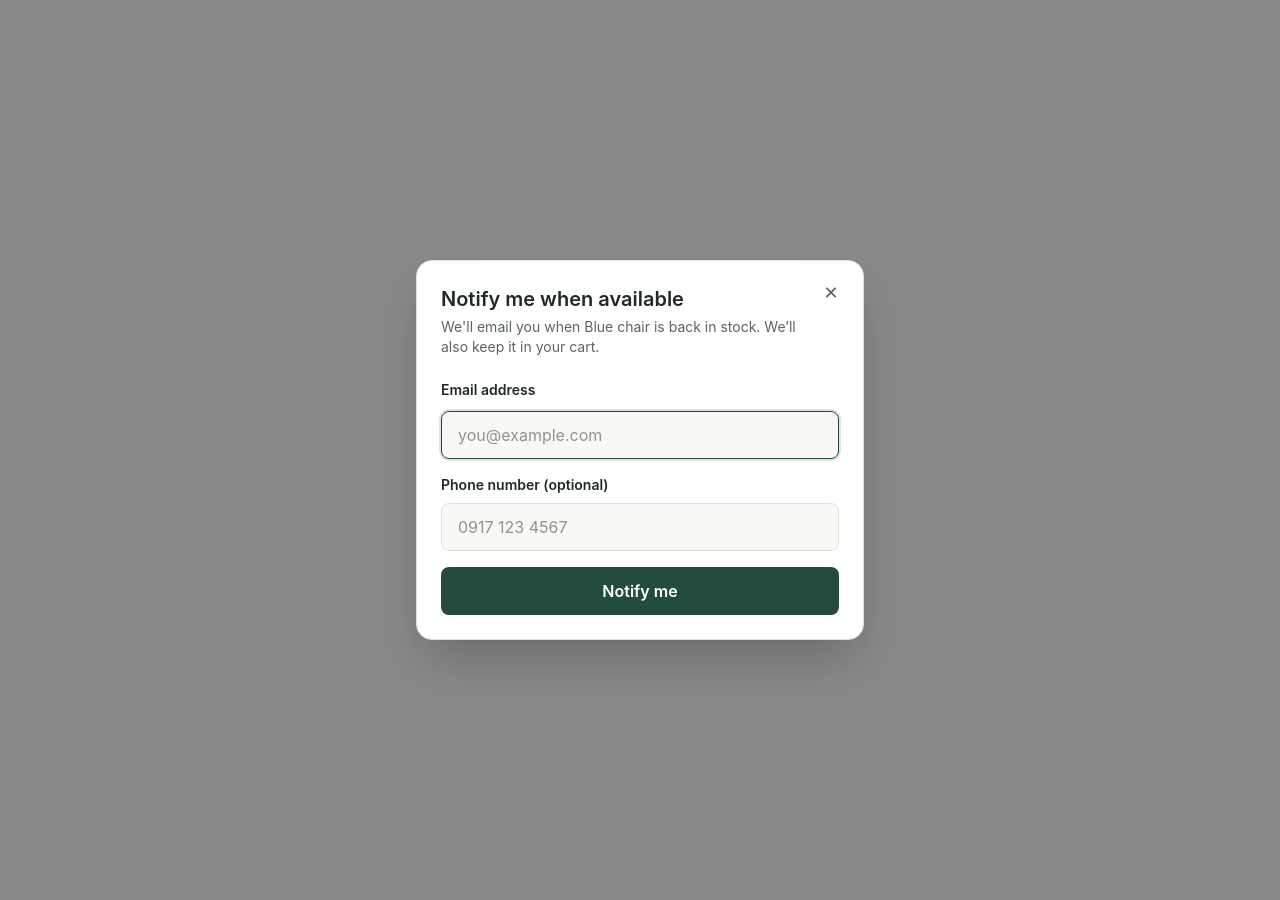
Test case: BackInStockDialog › hands the alert over with the contact the shopper gave
In the field labelled "Email address": (640, 435) top-left (441, 411), bottom-right (839, 459), type "shopper@example.com"
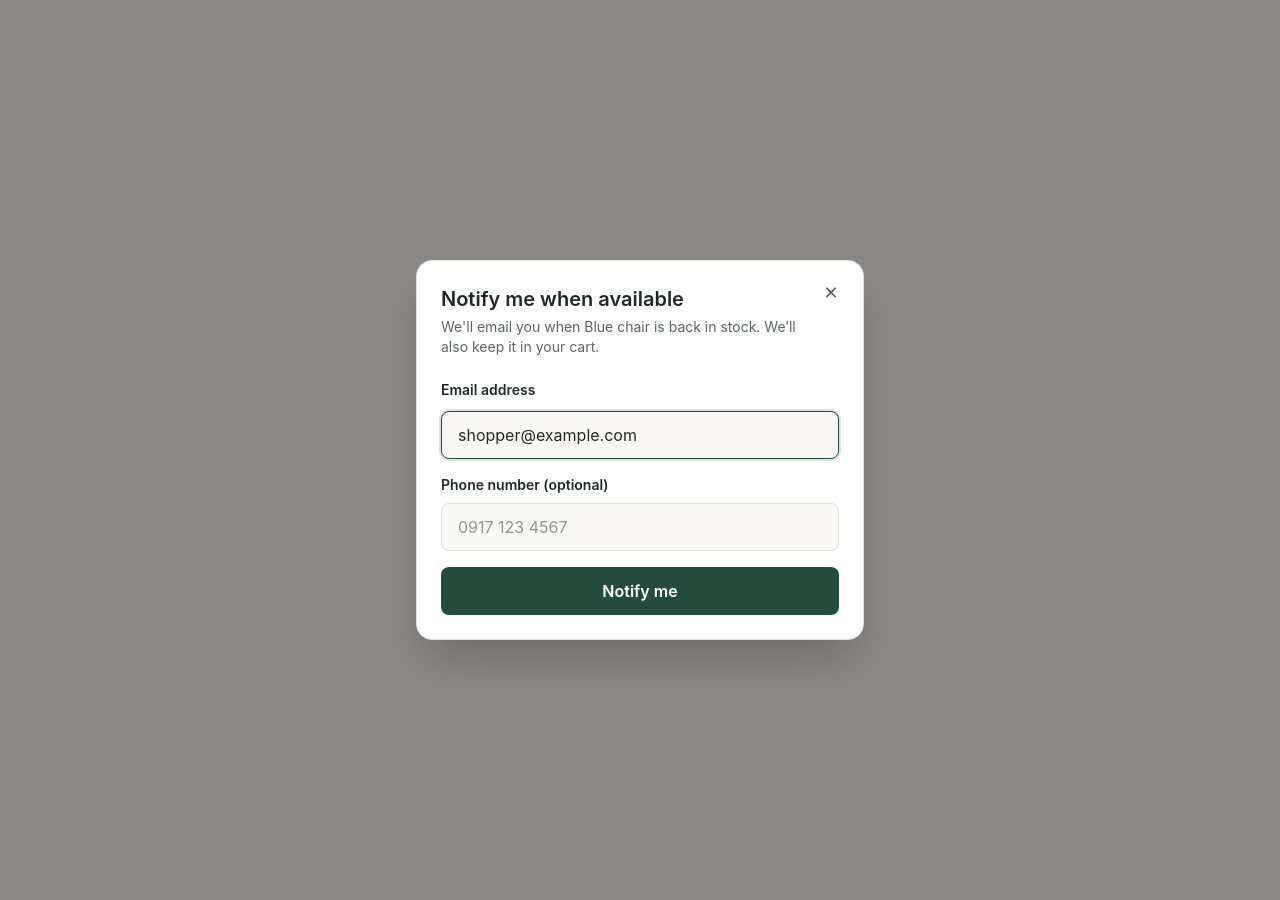
Click the button "Notify me": (640, 591) top-left (441, 567), bottom-right (839, 615)
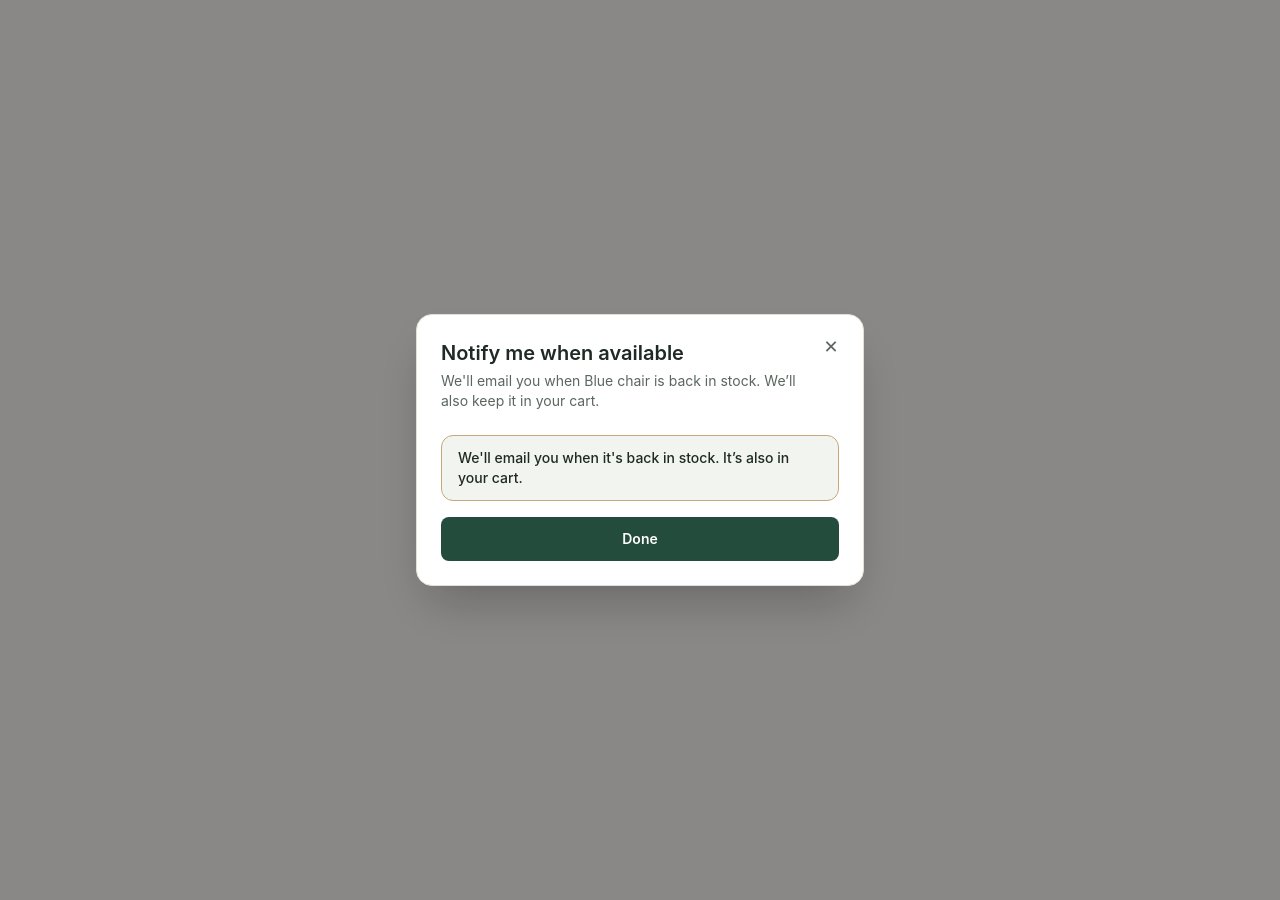
Result: the text "also in your cart" is shown at top-left (458, 449), bottom-right (789, 486)
